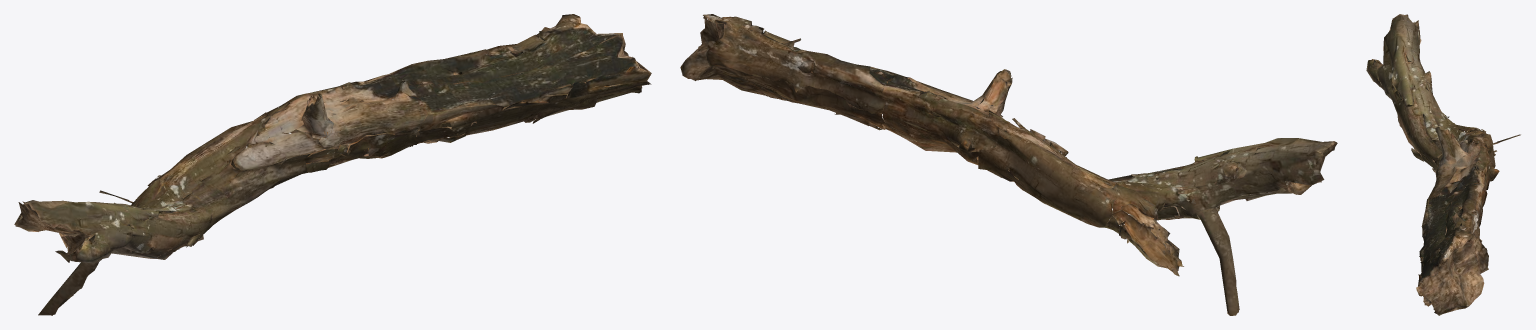
File: ph_dead_tree_trunk_02.glb
3 renders of one model, left to right at view 1: azimuth 30°, elevation 25°; view 2: azimuth 150°, elevation 25°; view 3: azimuth 270°, elevation 25°, orthographic. The views are drawn at different scales.
Visible parts, largest first — view 1: dead_tree_trunk_02; view 2: dead_tree_trunk_02; view 3: dead_tree_trunk_02.
Boxes of the visible parts, x1,y1,x2,y2 form: dead_tree_trunk_02: [14, 14, 651, 315]; dead_tree_trunk_02: [680, 14, 1337, 315]; dead_tree_trunk_02: [1366, 14, 1520, 315].
Size of the model in its own units: 4.05 by 1.06 by 1.05.
Materials: 1 (1 with a texture image).
